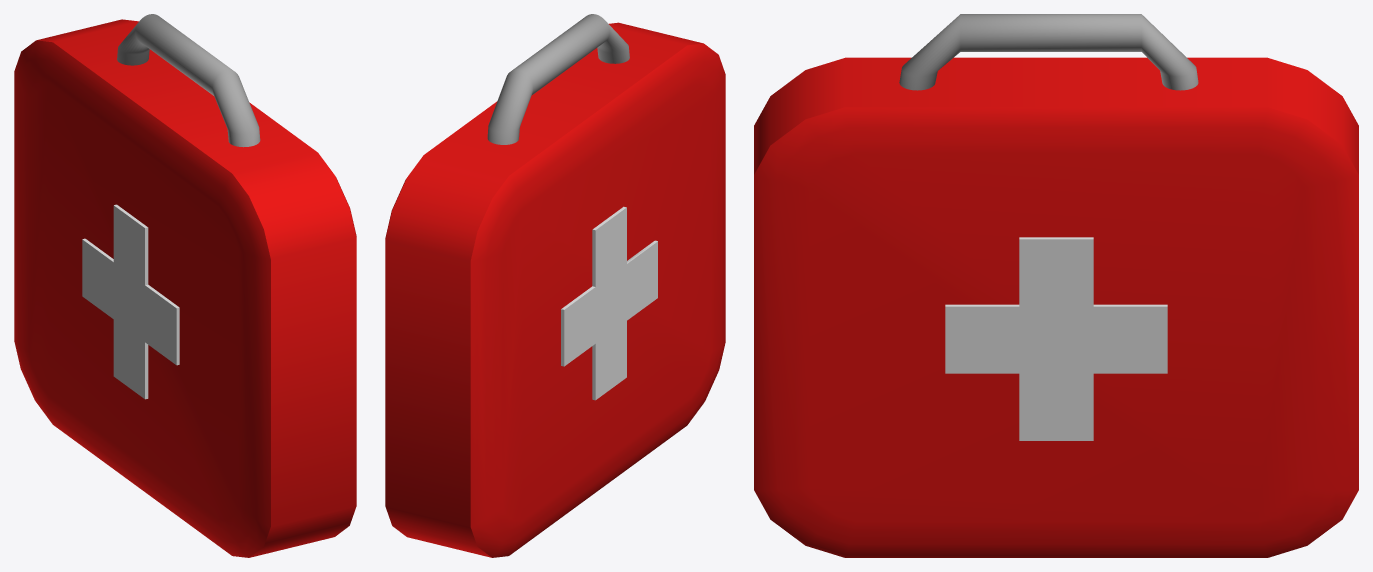
File: MEDKIT_.fbx
3 renders of one model, left to right at view 1: azimuth 30°, elevation 25°; view 2: azimuth 150°, elevation 25°; view 3: azimuth 270°, elevation 25°, orthographic. The views are drawn at different scales.
Parts seen in each view (by area): view 1: Cube; view 2: Cube; view 3: Cube.
Boxes of the visible parts, bbox=[...] form: Cube: bbox=[14, 14, 356, 557]; Cube: bbox=[385, 14, 725, 557]; Cube: bbox=[754, 14, 1358, 557].
Size of the model in its own units: 70.9 by 265 by 281.
